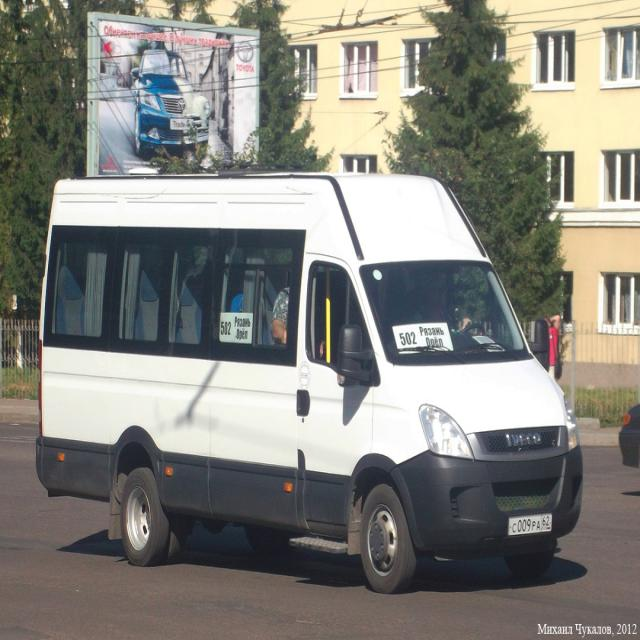number-of-bus: (397, 330, 420, 350), (221, 318, 234, 338)
